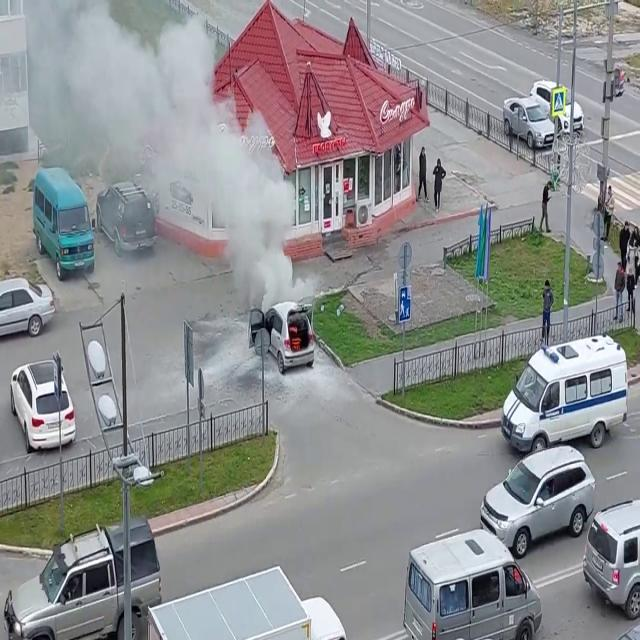Smoke: (6, 0, 298, 316)
